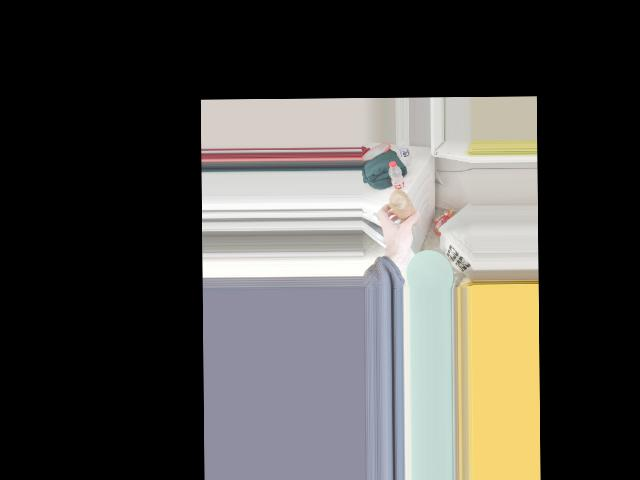sweet_potato: (387, 192, 420, 231)
